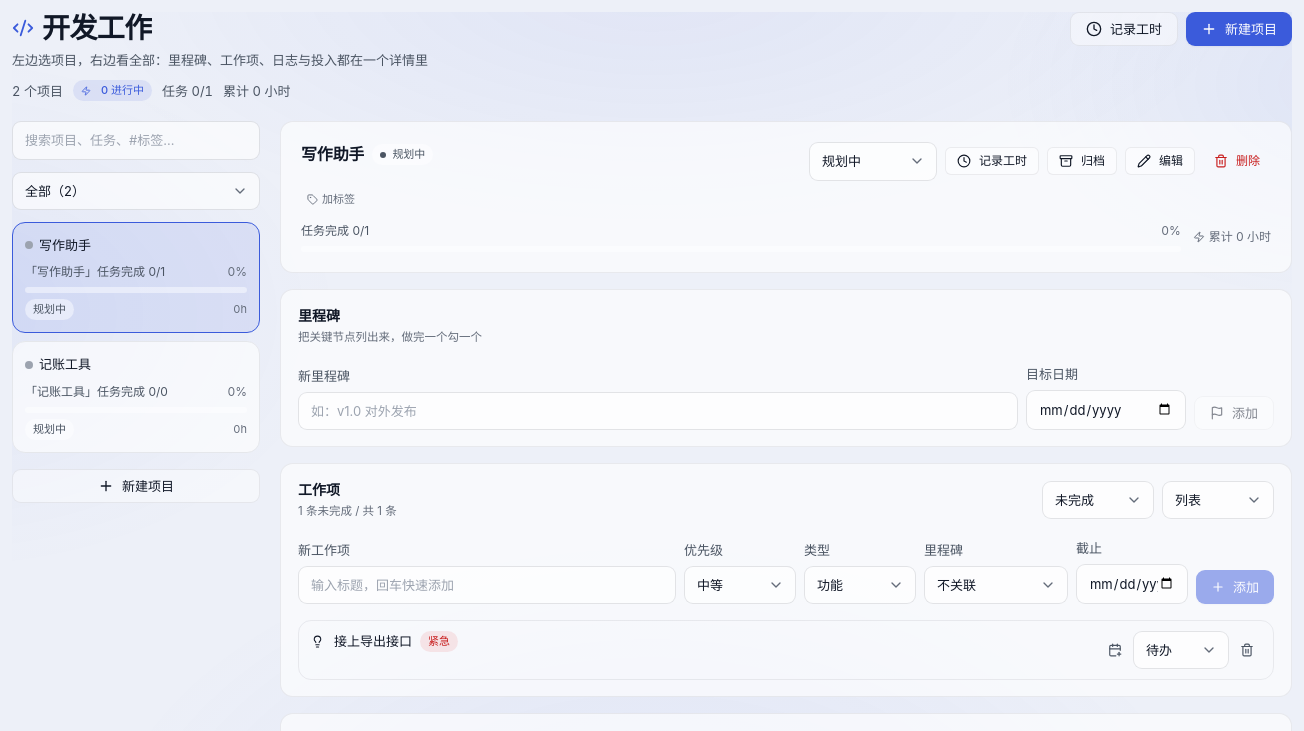
Test: DevPage 布局与项目 › 搜索可以命中任务标题
Type "导出" into the field named "搜索项目、任务或标签".
click(136, 140); type("导出")  # box [12,121,260,160]
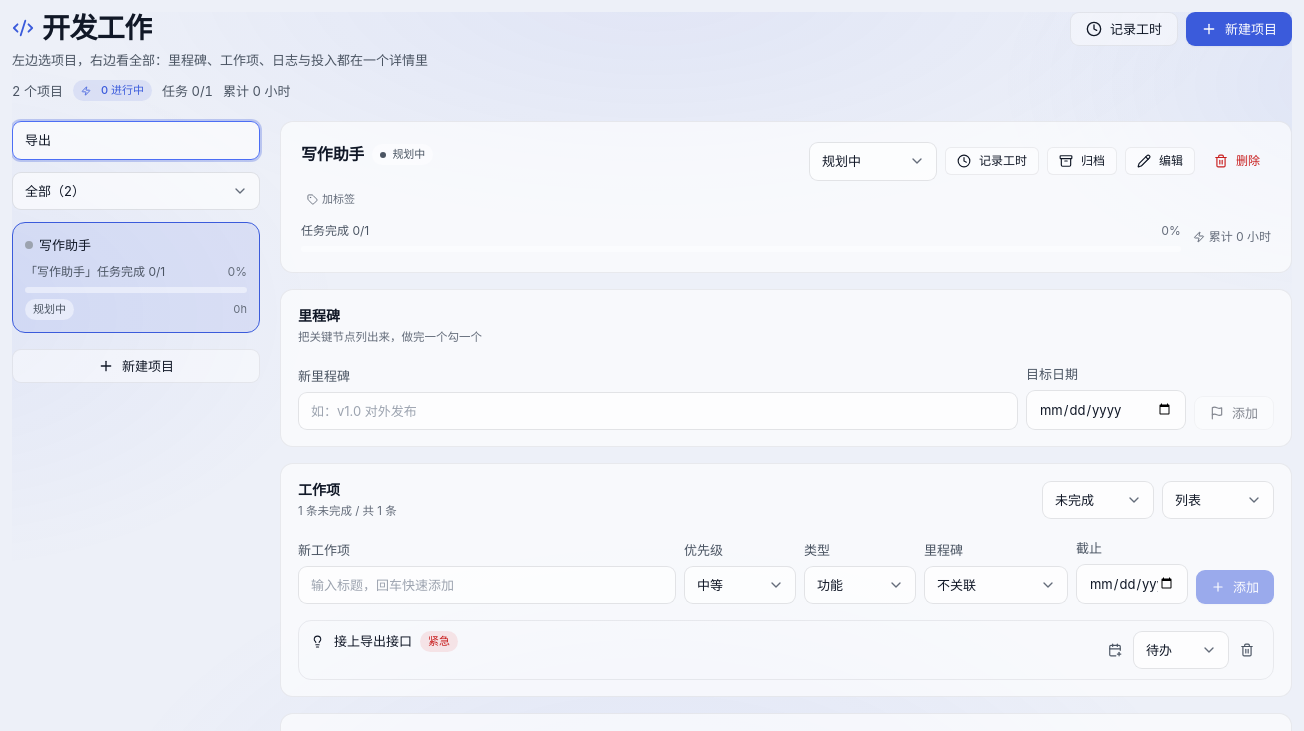
expect the button "写作助手 「写作助手」任务完成 0/1 0% 规划中 0h" is shown: met, box [12,222,260,334]
expect the button "记账工具" is gone: met
